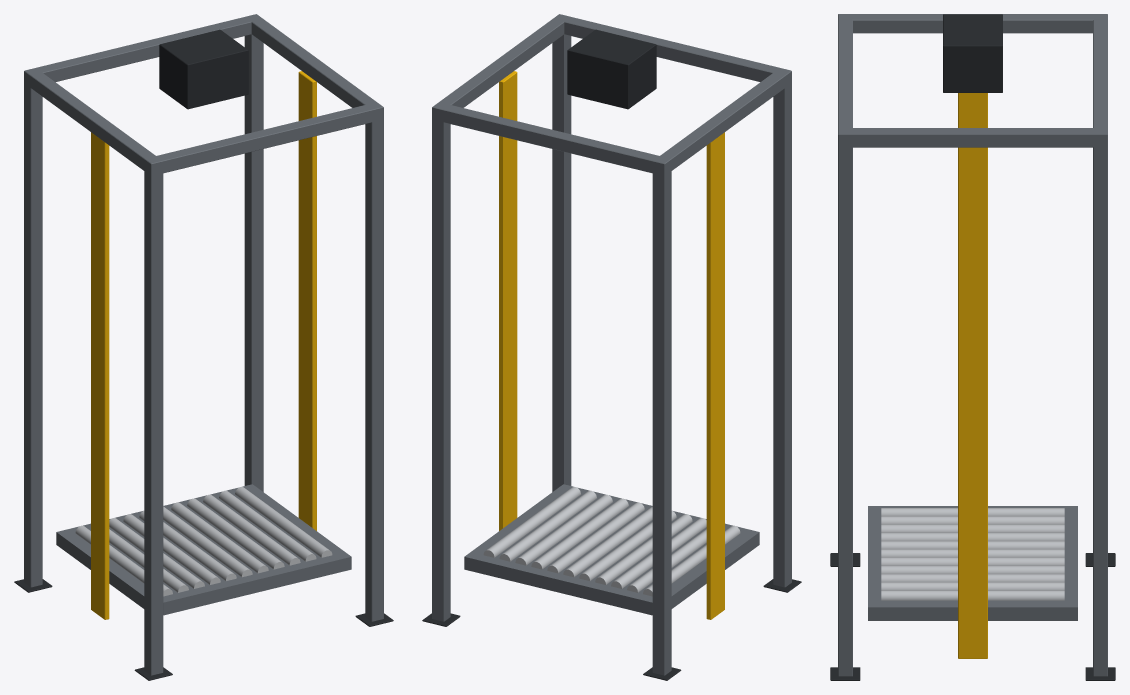
Rendered from elevator.glb.
3 views of the same model, side by side, from view 1: azimuth 30°, elevation 25°; view 2: azimuth 150°, elevation 25°; view 3: azimuth 270°, elevation 25° (orthographic). The views are drawn at different scales.
Visible parts, largest first — view 1: Elevator_Static, Platform; view 2: Elevator_Static, Platform; view 3: Elevator_Static, Platform.
Part boxes in pixels (<box>): Elevator_Static: <box>14,14,393,680</box>; Platform: <box>56,484,351,615</box>; Elevator_Static: <box>422,14,801,680</box>; Platform: <box>464,484,759,615</box>; Elevator_Static: <box>830,14,1115,680</box>; Platform: <box>868,506,1077,620</box>.
Size of the model in its own units: 2 by 4.33 by 1.9.
